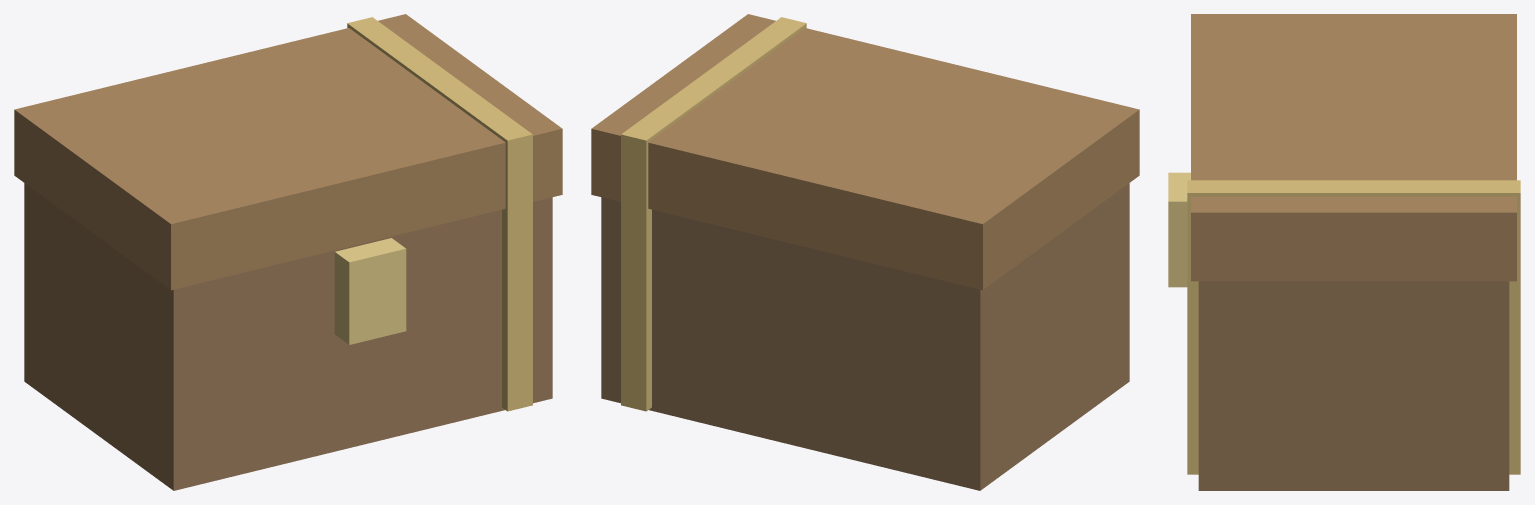
The model's file is loot_chest_m201.glb.
3 renders of one model, left to right at view 1: azimuth 30°, elevation 25°; view 2: azimuth 150°, elevation 25°; view 3: azimuth 270°, elevation 25°, orthographic. The views are drawn at different scales.
Visible parts, largest first — view 1: ChestBase, ChestLid, Band, Lock; view 2: ChestBase, ChestLid, Band; view 3: ChestLid, ChestBase, Band, Lock.
Boxes of the visible parts, bbox=[...] form: ChestBase: bbox=[24, 183, 552, 490]; ChestLid: bbox=[14, 14, 562, 290]; Band: bbox=[347, 17, 532, 411]; Lock: bbox=[334, 238, 406, 344]; ChestBase: bbox=[601, 183, 1129, 490]; ChestLid: bbox=[591, 14, 1139, 290]; Band: bbox=[621, 17, 806, 411]; ChestLid: bbox=[1191, 14, 1516, 281]; ChestBase: bbox=[1198, 281, 1509, 490]; Band: bbox=[1187, 180, 1520, 474]; Lock: bbox=[1168, 172, 1190, 287].
Size of the model in its own units: 1.24 by 0.83 by 0.93.
